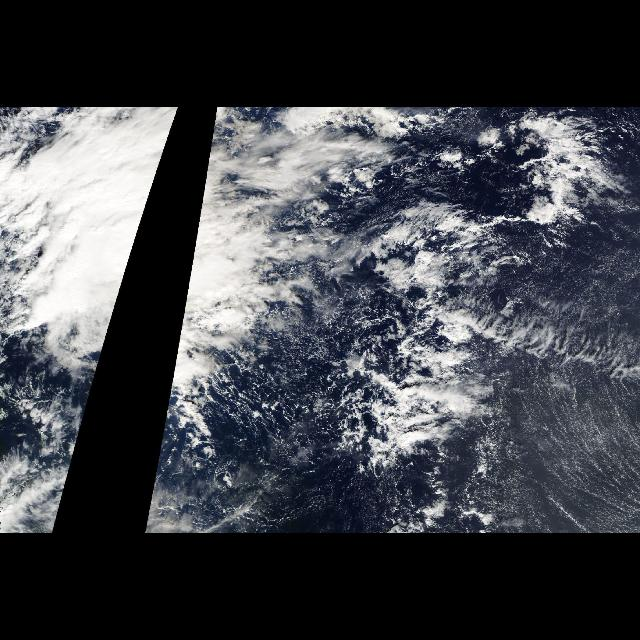Fish: (332, 108, 630, 502)
Gravel: (212, 275, 470, 493)
Sugar: (499, 232, 639, 534)
